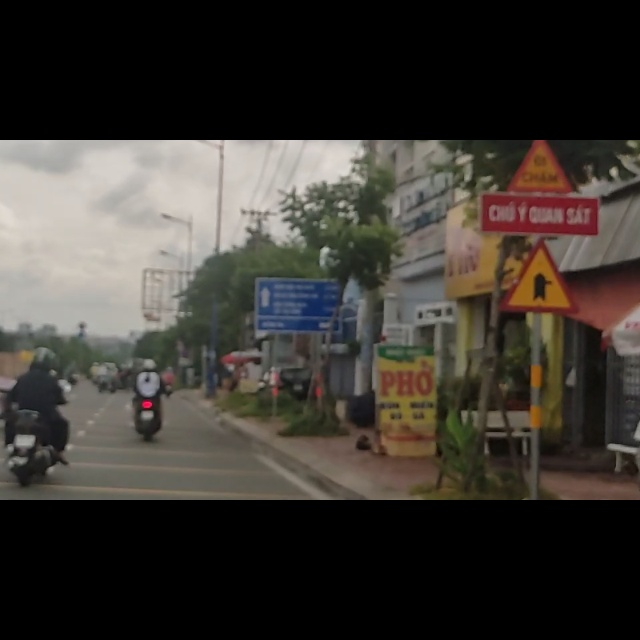bien_nguy_hiem: (498, 179, 575, 313)
